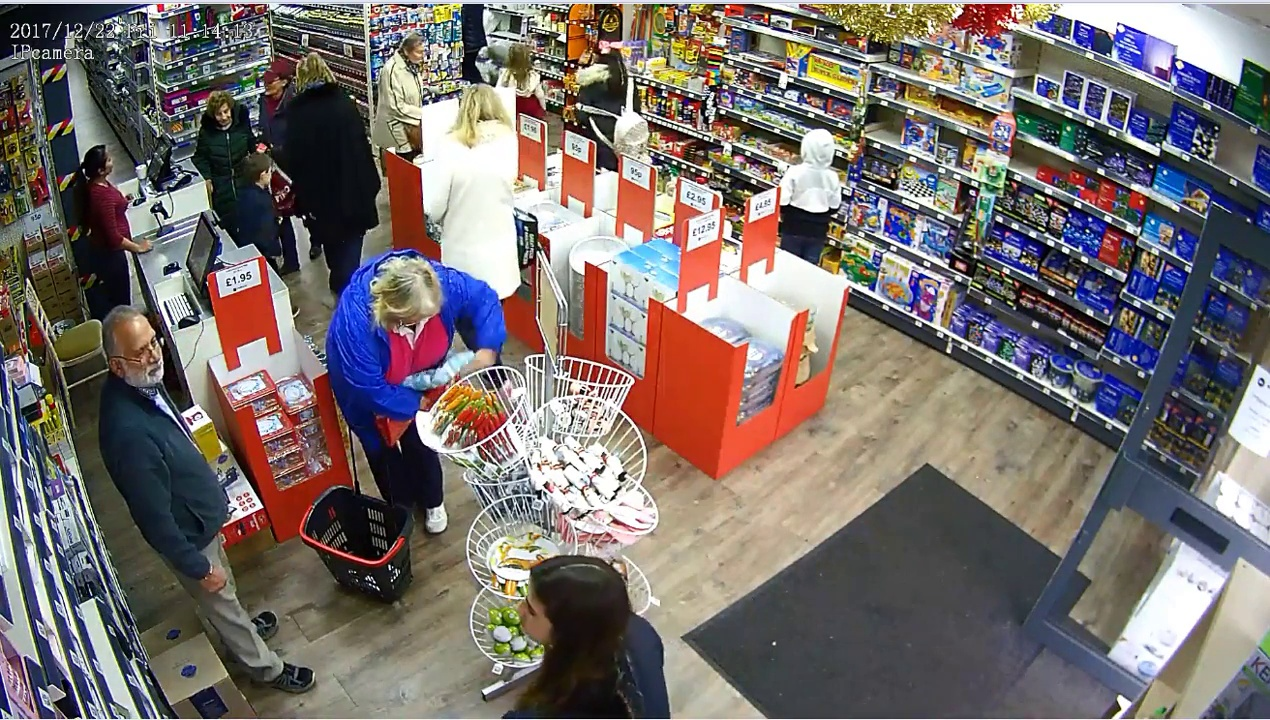face: (102, 321, 175, 385), (515, 580, 565, 657), (212, 97, 235, 129), (404, 39, 426, 66)
